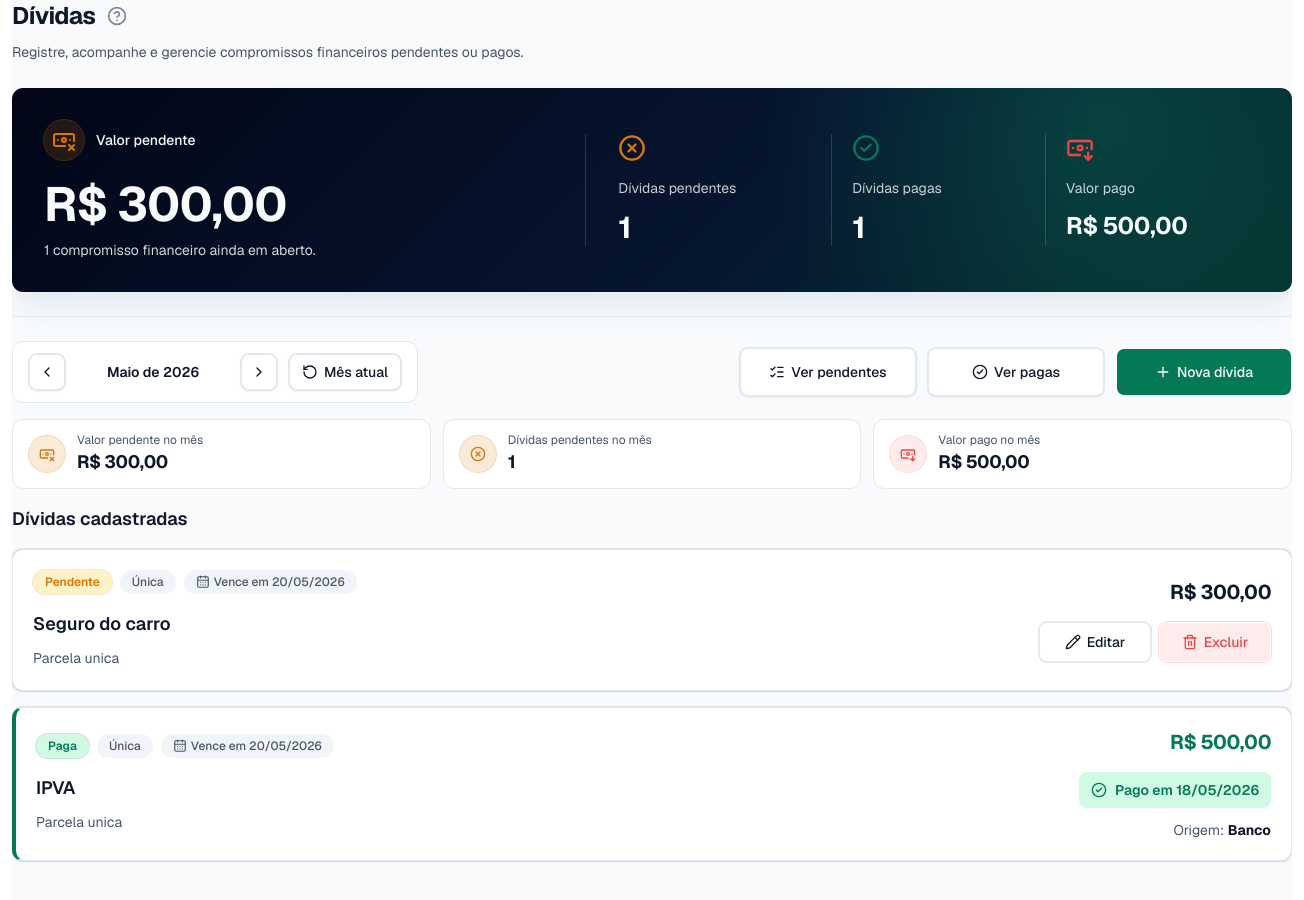
Test: DebtsPageContent › should open edit debt form
This screenshot has width=1304, height=900.
Click the button "Editar" at {"x": 1095, "y": 642}, box [1039, 622, 1151, 662]
(page scrolled)
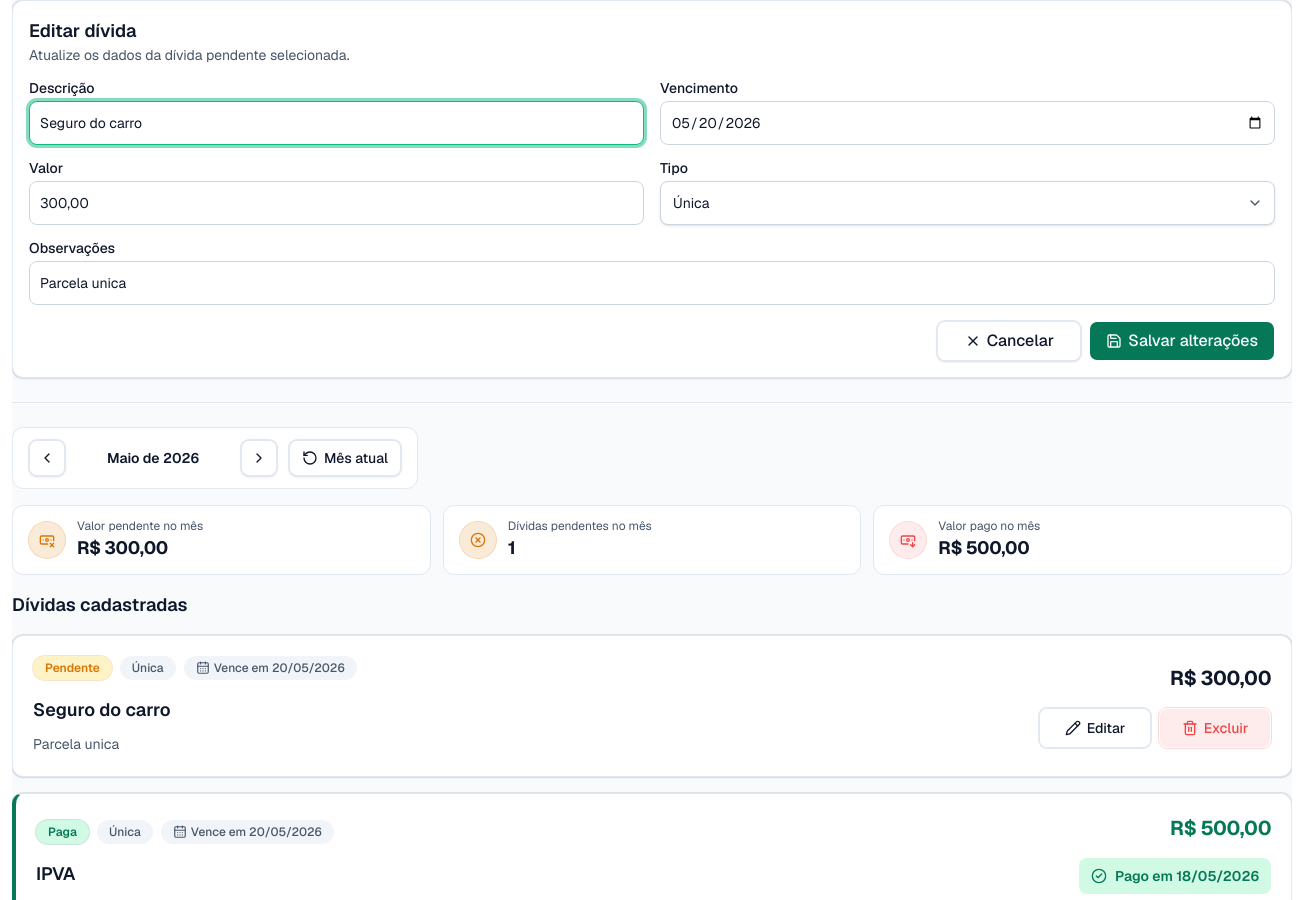
Check: the heading "Editar dívida" is shown, box [29, 19, 136, 42]
Check: the field labelled "Descrição" holds "Seguro do carro", box [29, 101, 644, 145]
Check: the field showing "300,00" is shown, box [29, 181, 644, 225]
